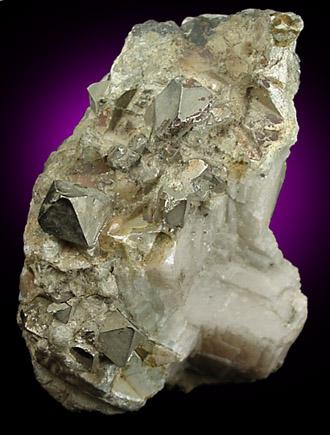pyrite: (89, 75, 213, 170), (38, 180, 114, 250), (96, 311, 146, 368), (184, 160, 208, 182)
